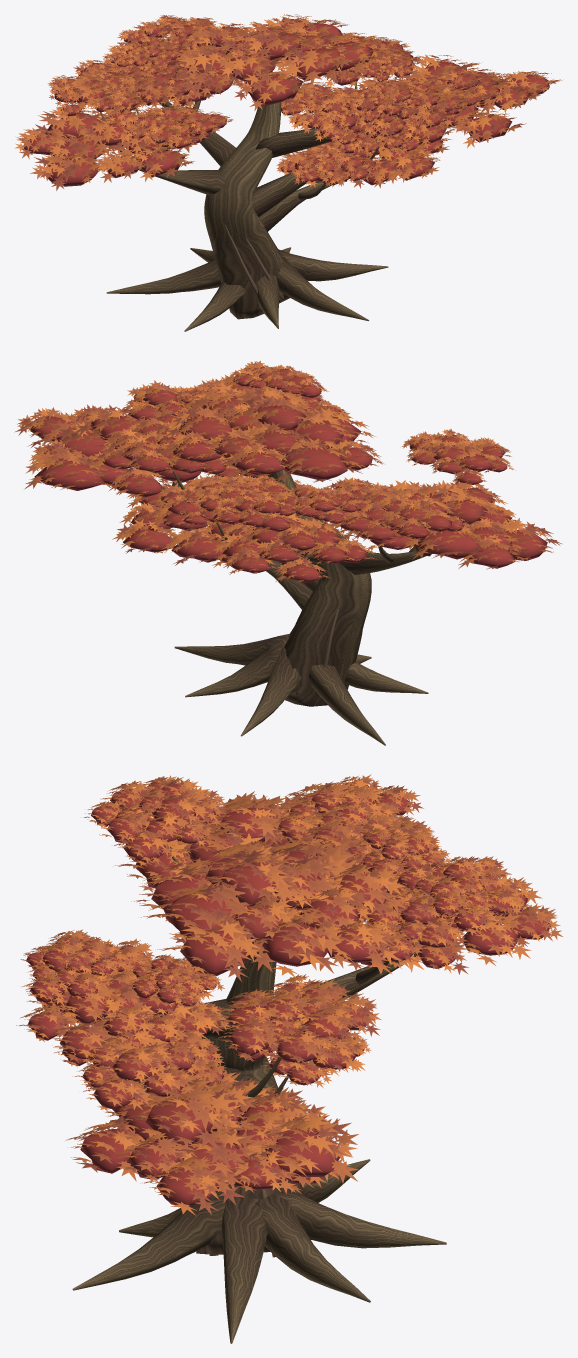
3 views of the same model, one above another, from view 1: azimuth 30°, elevation 25°; view 2: azimuth 150°, elevation 25°; view 3: azimuth 270°, elevation 25° (orthographic). The views are drawn at different scales.
Parts seen in each view (by area): view 1: Outer_foliage, Crown_mass, Weathered_bark, Sunlit_bark_ridges; view 2: Outer_foliage, Crown_mass, Weathered_bark; view 3: Outer_foliage, Crown_mass, Weathered_bark.
Boxes of the visible parts, left/top/right/bottom form: Outer_foliage: left=15, top=14, right=562, bottom=190; Crown_mass: left=22, top=17, right=549, bottom=186; Weathered_bark: left=100, top=72, right=408, bottom=331; Sunlit_bark_ridges: left=218, top=224, right=283, bottom=300; Outer_foliage: left=14, top=360, right=562, bottom=581; Crown_mass: left=30, top=366, right=547, bottom=582; Weathered_bark: left=161, top=433, right=459, bottom=745; Outer_foliage: left=16, top=774, right=562, bottom=1215; Crown_mass: left=26, top=780, right=550, bottom=1206; Weathered_bark: left=72, top=845, right=446, bottom=1343.
Size of the model in its own units: 10.49 by 5.24 by 6.16.
Materials: 4 (1 with a texture image).
